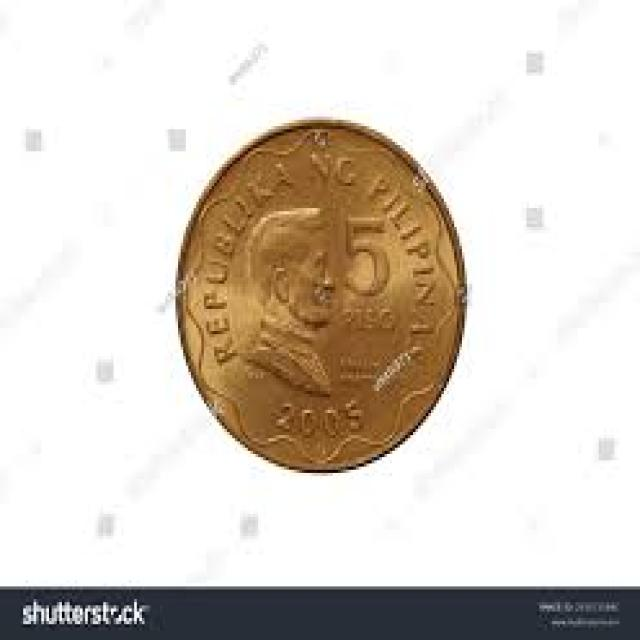5 peso-old: (167, 105, 476, 483)
